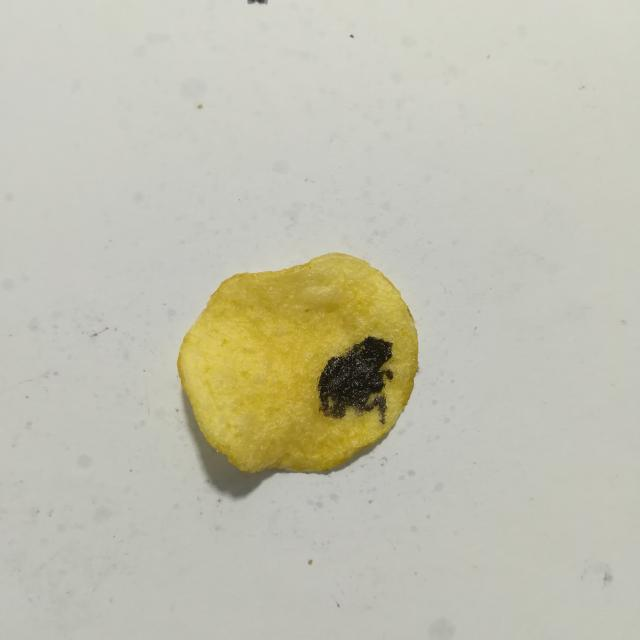chip: (177, 253, 418, 473)
damaged: (318, 336, 393, 424)
